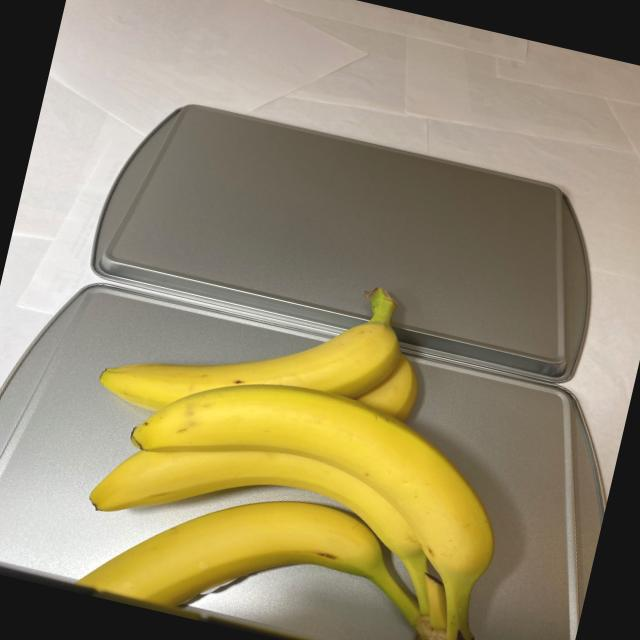banana: (42, 227, 554, 640)
